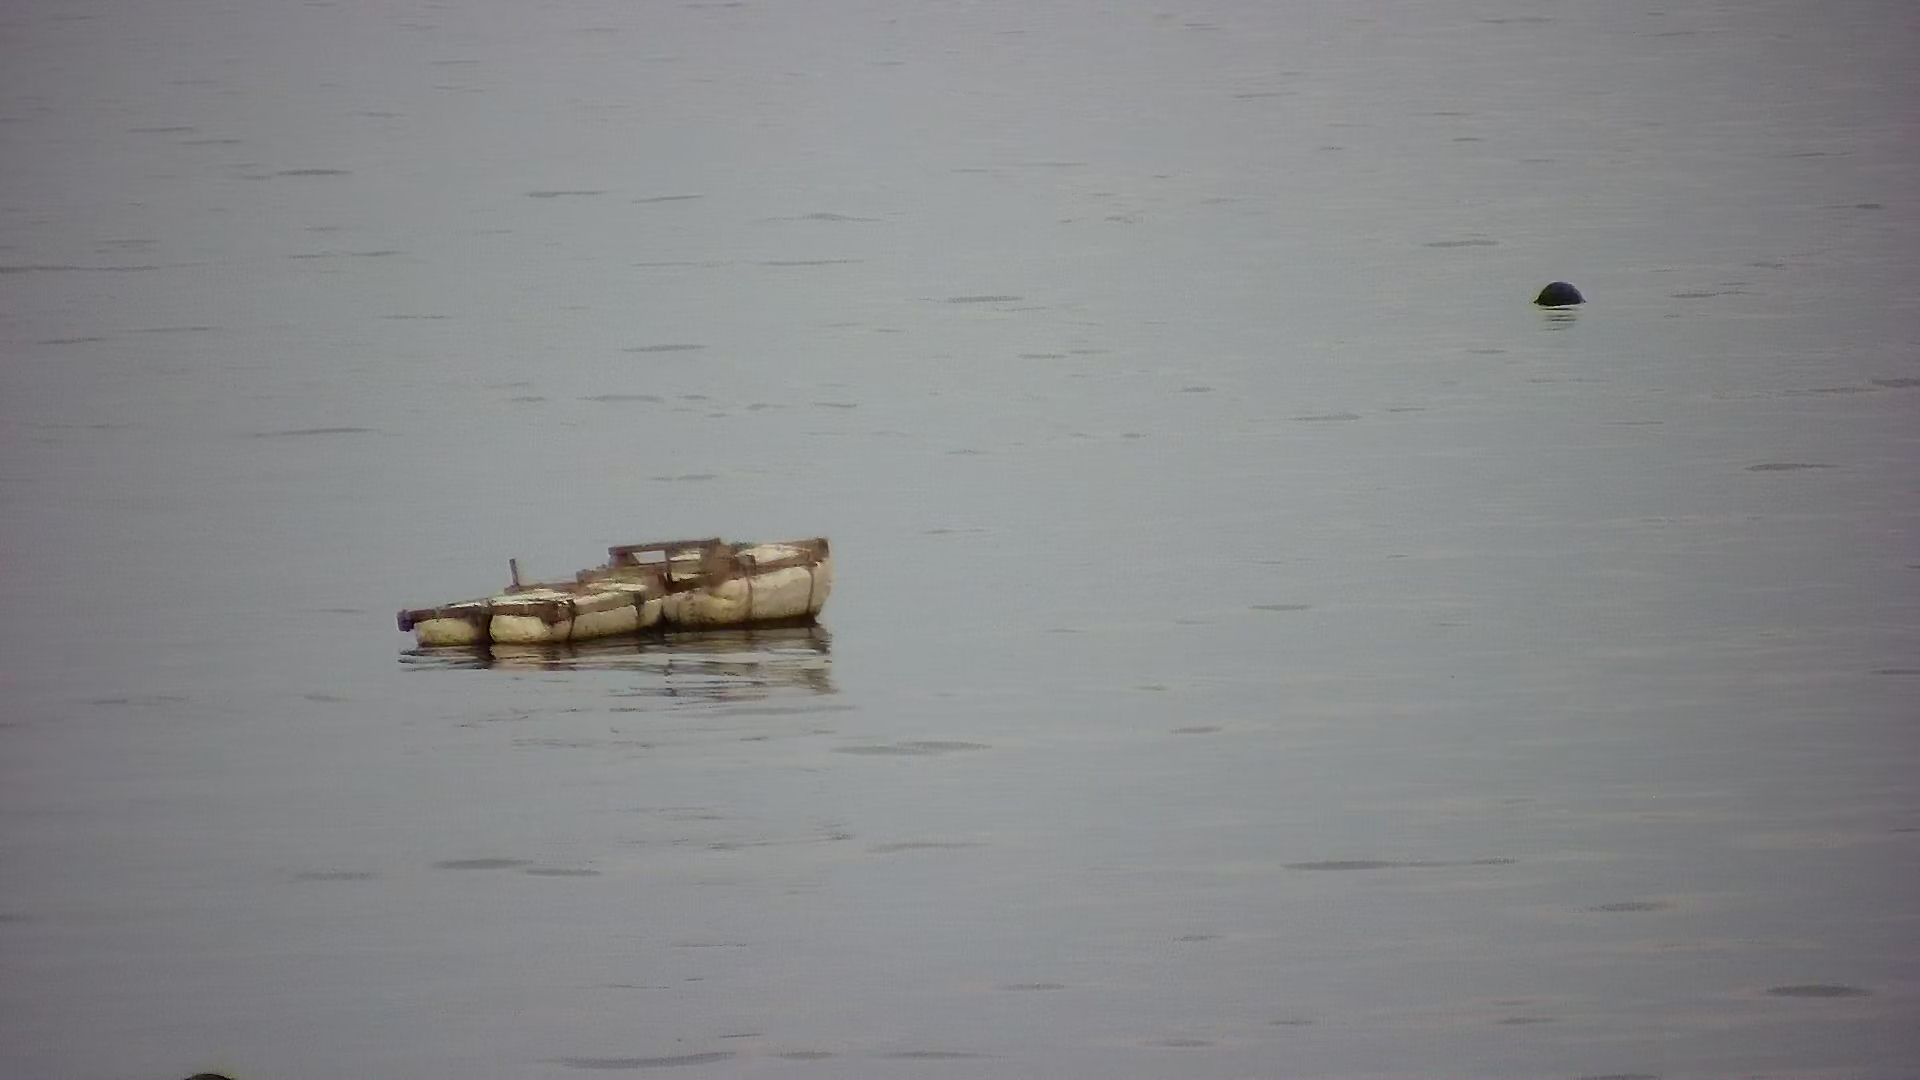ball: (1524, 272, 1594, 320)
rubbish: (380, 506, 845, 658)
